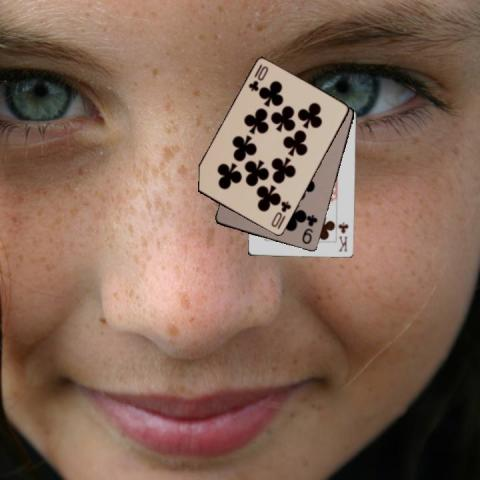10c: (268, 198, 293, 231), (246, 61, 270, 93)
9c: (300, 212, 319, 246)
Kc: (336, 219, 350, 253)
